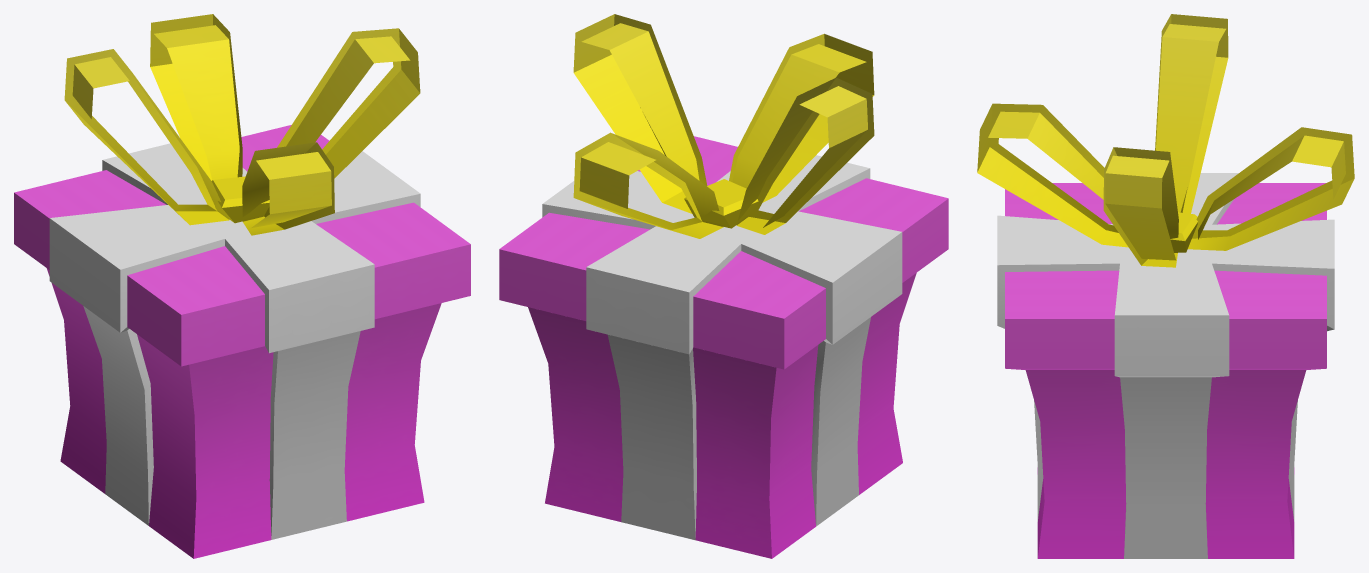
Rendered from gift2.glb.
3 views of the same model, side by side, from view 1: azimuth 30°, elevation 25°; view 2: azimuth 150°, elevation 25°; view 3: azimuth 270°, elevation 25° (orthographic). The views are drawn at different scales.
Parts seen in each view (by area): view 1: Gift2; view 2: Gift2; view 3: Gift2.
Boxes of the visible parts, box(x1,y1,x2,y2) form: Gift2: box(14, 14, 470, 558); Gift2: box(499, 14, 948, 558); Gift2: box(977, 14, 1354, 558).
Bounding box in the file's own units: 0.2741 × 0.368 × 0.2987.
1 material, 1 textured.
